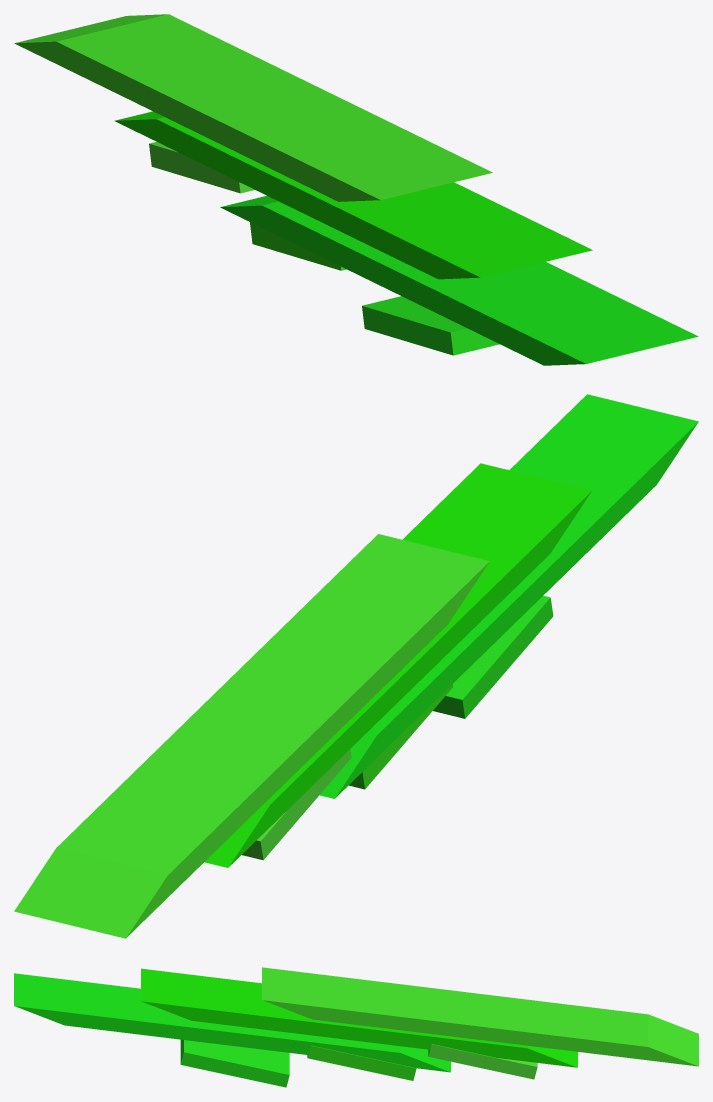
File: double-speed.glb
The picture shows the model from 3 angles, top to bottom: view 1: azimuth 30°, elevation 25°; view 2: azimuth 150°, elevation 25°; view 3: azimuth 270°, elevation 25°; orthographic projection. The views are drawn at different scales.
Parts seen in each view (by area): view 1: Cube, Cube.004, Cube.002, Cube.005, Cube.001, Cube.003; view 2: Cube, Cube.004, Cube.002, Cube.005, Cube.001, Cube.003; view 3: Cube, Cube.004, Cube.002, Cube.005, Cube.001, Cube.003.
Part boxes in pixels (<box>): Cube: <box>14,14,492,201</box>; Cube.004: <box>220,196,698,365</box>; Cube.002: <box>114,111,592,279</box>; Cube.005: <box>362,296,499,355</box>; Cube.001: <box>149,141,254,193</box>; Cube.003: <box>250,222,346,270</box>; Cube: <box>14,534,489,938</box>; Cube.004: <box>320,394,698,798</box>; Cube.002: <box>204,463,592,867</box>; Cube.005: <box>433,595,553,718</box>; Cube.001: <box>242,749,351,860</box>; Cube.003: <box>349,684,453,789</box>; Cube: <box>262,967,698,1066</box>; Cube.004: <box>14,973,450,1072</box>; Cube.002: <box>141,968,577,1067</box>; Cube.005: <box>180,1039,289,1087</box>; Cube.001: <box>428,1044,537,1079</box>; Cube.003: <box>307,1045,416,1080</box>.
Size of the model in its own units: 2.12 by 2.46 by 17.7.
